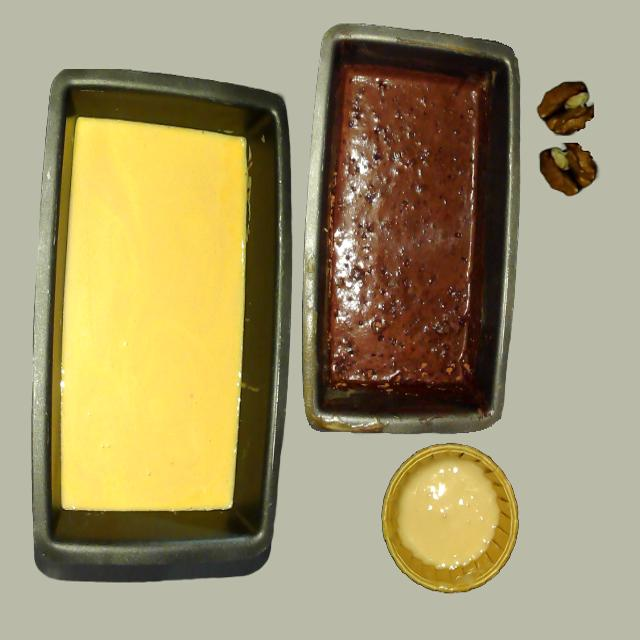Walnut: (540, 69, 597, 211)
